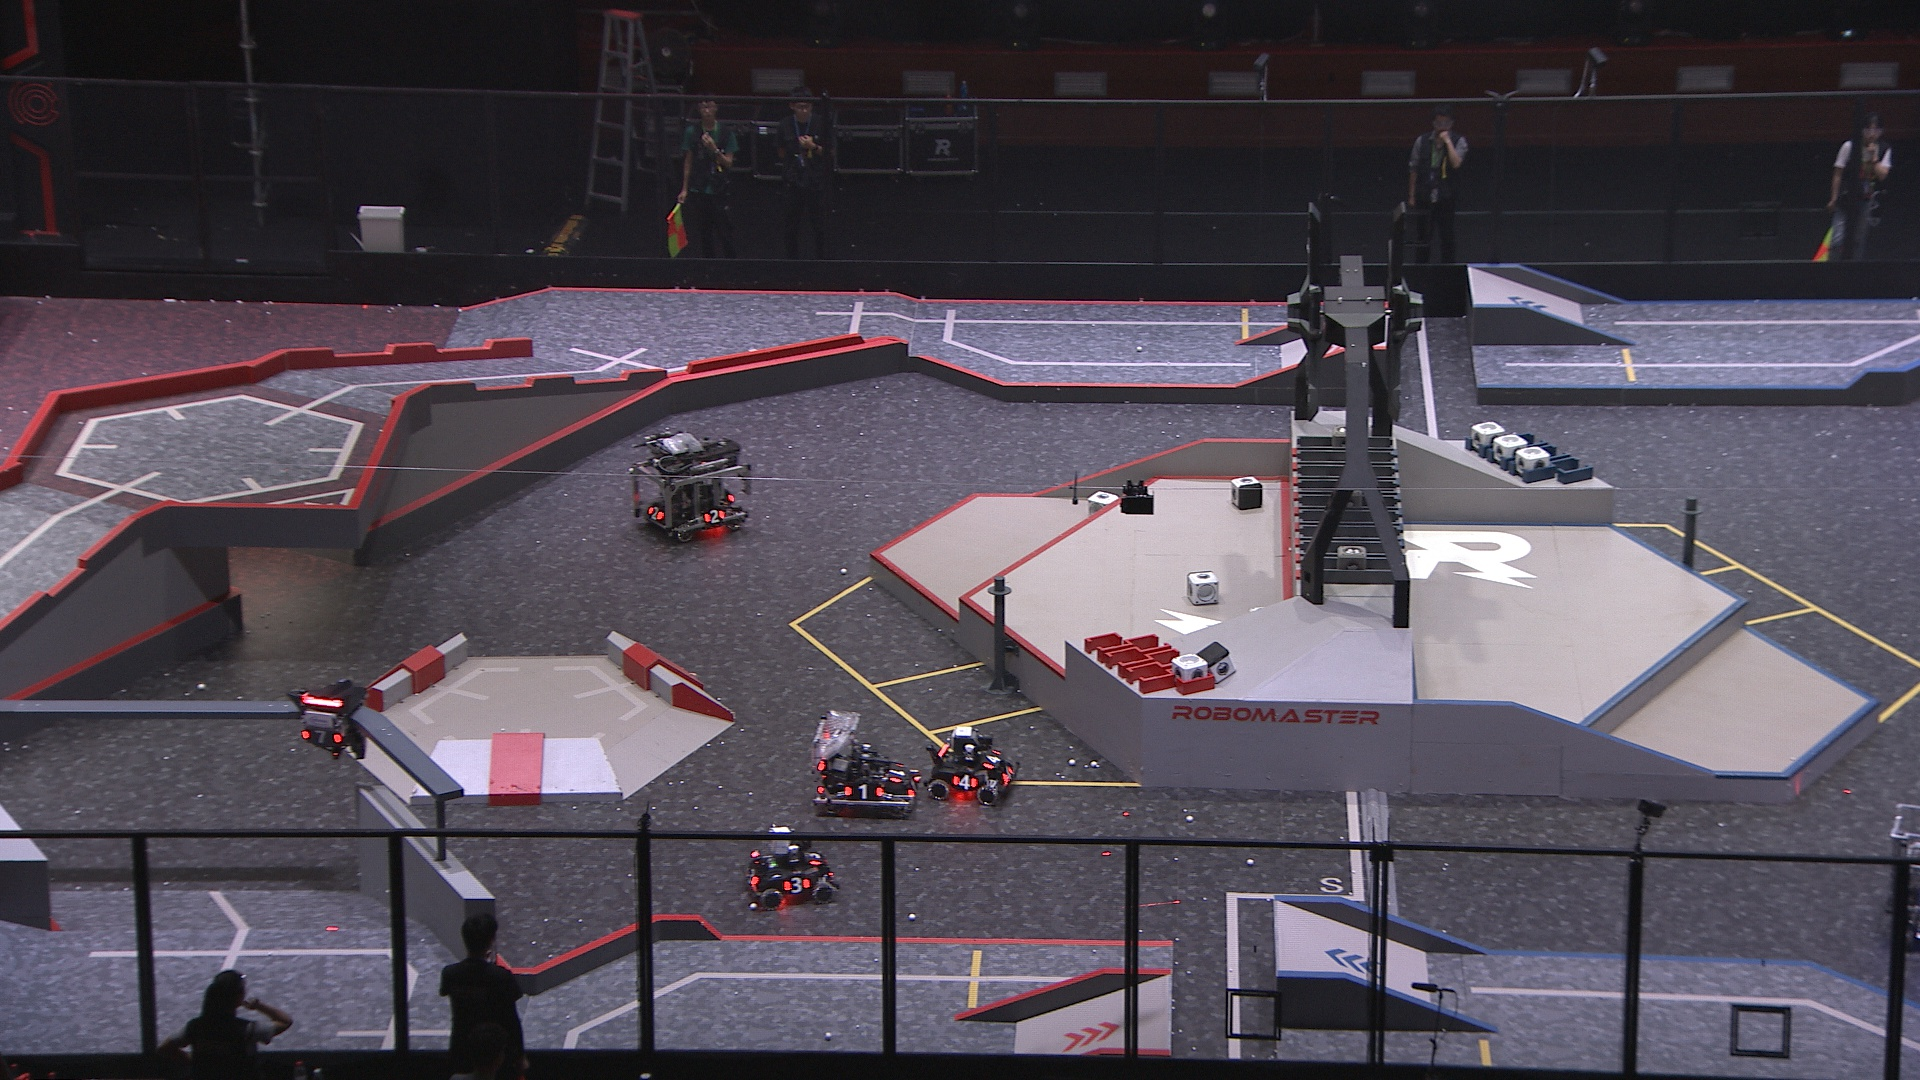armor: (301, 727, 343, 749), (843, 782, 884, 800), (949, 773, 978, 793), (781, 876, 811, 894), (702, 506, 727, 526), (645, 502, 666, 524), (903, 777, 920, 800), (982, 750, 1002, 770), (802, 849, 823, 868), (887, 764, 906, 785), (1001, 765, 1017, 787), (744, 866, 760, 887)
car: (629, 436, 746, 547), (811, 711, 923, 818), (742, 825, 841, 911), (922, 723, 1021, 807), (1882, 800, 1920, 959)
watcher: (287, 678, 371, 764)
